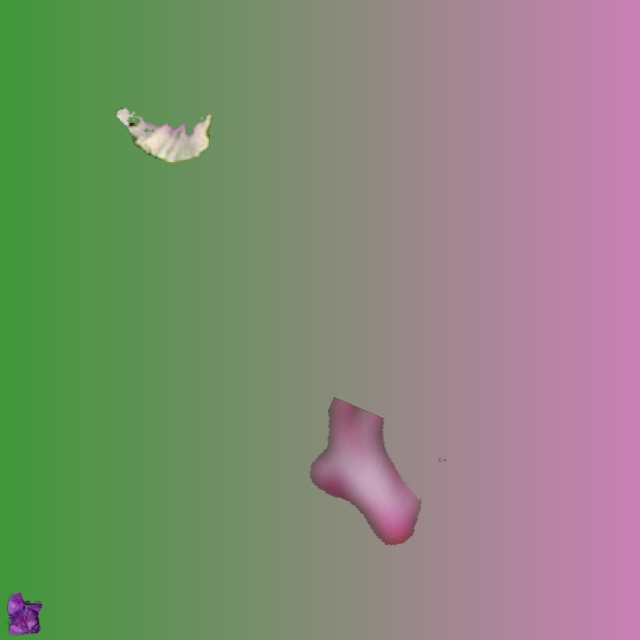butterfly flower: (7, 593, 41, 635)
cape flower: (310, 397, 445, 544)
orchid: (116, 108, 211, 162)
